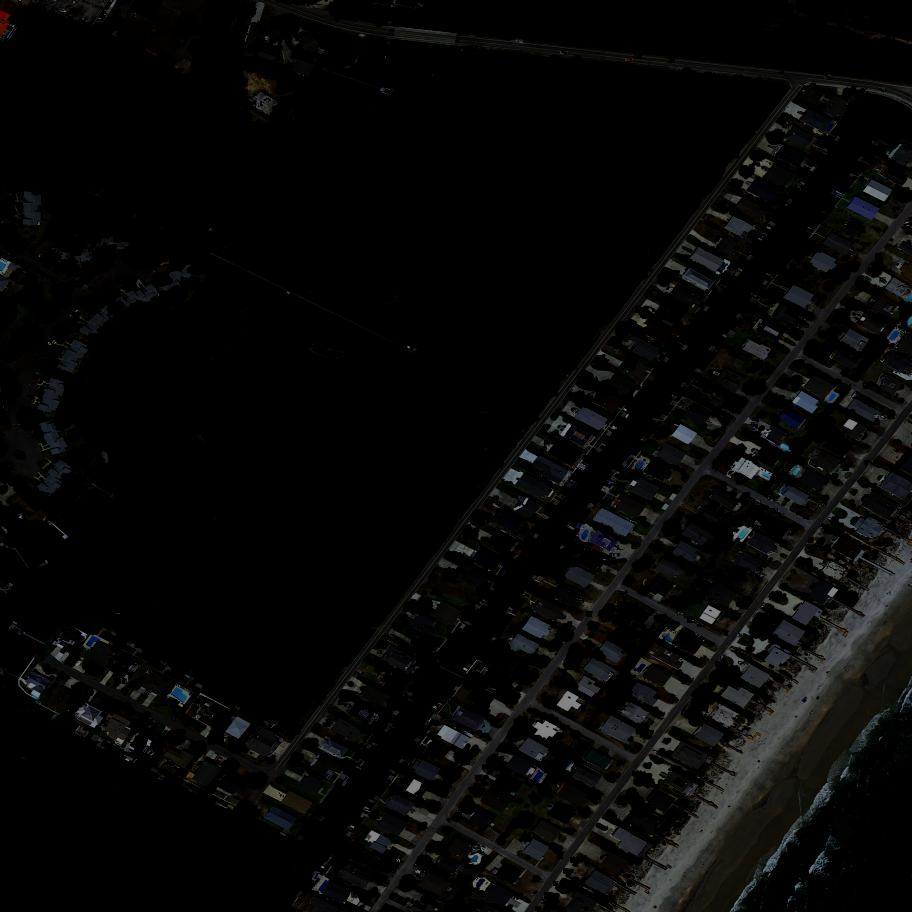ship: (415, 870, 427, 876), (188, 669, 195, 676), (8, 587, 14, 594), (116, 613, 122, 615), (214, 676, 218, 678)
small-vehicle: (471, 844, 480, 851), (416, 873, 423, 881), (544, 892, 551, 900), (747, 425, 755, 432), (620, 337, 629, 343), (632, 771, 639, 778), (771, 508, 778, 515), (880, 415, 887, 422), (482, 764, 490, 770), (693, 632, 701, 638), (586, 610, 592, 618), (778, 513, 786, 519), (475, 775, 481, 782), (738, 661, 745, 667), (688, 616, 694, 623), (759, 572, 766, 578), (806, 544, 813, 550), (771, 348, 778, 354), (352, 892, 359, 898), (532, 890, 539, 896), (148, 719, 154, 726), (163, 729, 169, 736), (865, 460, 872, 466), (768, 496, 775, 502), (728, 470, 735, 476), (832, 473, 839, 479), (770, 350, 776, 357), (875, 419, 881, 426), (863, 383, 870, 389), (820, 524, 826, 530), (558, 854, 564, 860), (482, 847, 488, 853), (536, 906, 542, 912), (803, 514, 809, 520), (820, 503, 826, 509), (744, 493, 750, 499), (842, 371, 848, 377), (571, 857, 576, 864), (581, 705, 586, 712), (679, 612, 686, 617), (808, 537, 813, 544), (544, 441, 551, 446), (277, 792, 284, 797), (634, 55, 642, 59), (560, 51, 568, 55), (323, 723, 331, 727), (880, 87, 886, 92), (725, 631, 730, 637), (616, 773, 621, 779), (669, 59, 675, 64), (564, 868, 569, 874), (542, 899, 547, 905), (327, 719, 333, 724), (649, 307, 655, 312), (880, 278, 886, 283), (225, 737, 230, 743), (172, 713, 177, 719), (876, 253, 881, 259), (788, 532, 794, 537), (768, 354, 774, 359), (721, 655, 725, 662), (824, 76, 831, 80), (27, 394, 34, 398), (639, 517, 646, 521), (751, 423, 758, 427), (752, 417, 759, 421), (339, 700, 344, 705), (795, 324, 800, 329), (697, 623, 705, 626), (625, 58, 633, 61), (4, 406, 10, 410), (542, 446, 548, 450), (123, 678, 127, 684), (720, 482, 726, 486), (611, 554, 618, 557), (842, 467, 849, 470), (553, 882, 558, 886), (39, 254, 43, 259), (378, 650, 383, 654), (72, 685, 76, 690), (756, 501, 761, 505), (266, 36, 269, 42), (36, 322, 42, 325), (396, 859, 404, 861), (716, 662, 719, 667), (757, 568, 762, 571), (762, 505, 767, 508), (738, 633, 741, 637), (577, 599, 583, 601), (472, 46, 478, 48), (394, 868, 397, 872), (778, 72, 783, 74), (786, 124, 788, 129), (754, 162, 759, 164), (797, 512, 802, 514), (755, 432, 760, 434), (867, 302, 871, 304), (146, 725, 147, 727), (4, 412, 8, 412)
